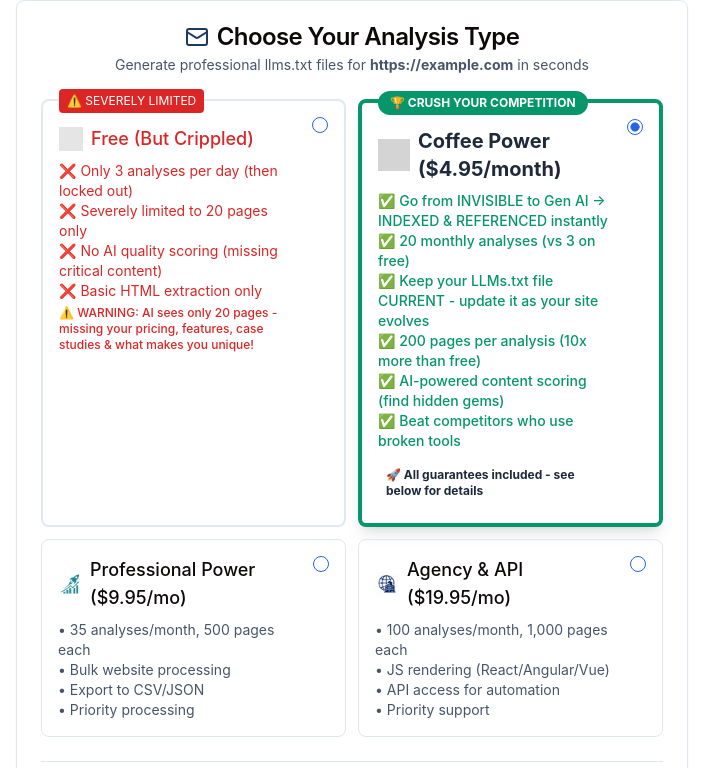
Test: EmailCapture Component › allows tier selection
The width and height of the screenshot is (705, 768).
Expected: the radio button named "Coffee Power ($4.95/month)" next to "Coffee Power ($4.95/month)" is checked, [627, 119, 643, 135]
Select the free (starter) tier
Click the radio button named "Free (But Crippled)" next to "Free (But Crippled)".
click(320, 125)  # box [312, 117, 328, 133]
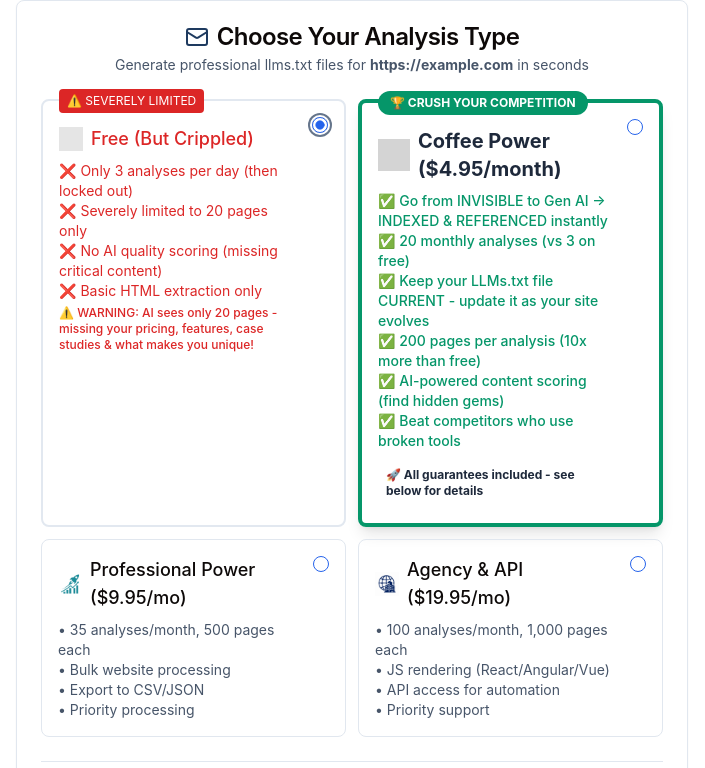
Expected: the radio button named "Free (But Crippled)" next to "Free (But Crippled)" is checked, [312, 117, 328, 133]
Expected: the radio button named "Coffee Power ($4.95/month)" next to "Coffee Power ($4.95/month)" is not checked, [627, 119, 643, 135]
